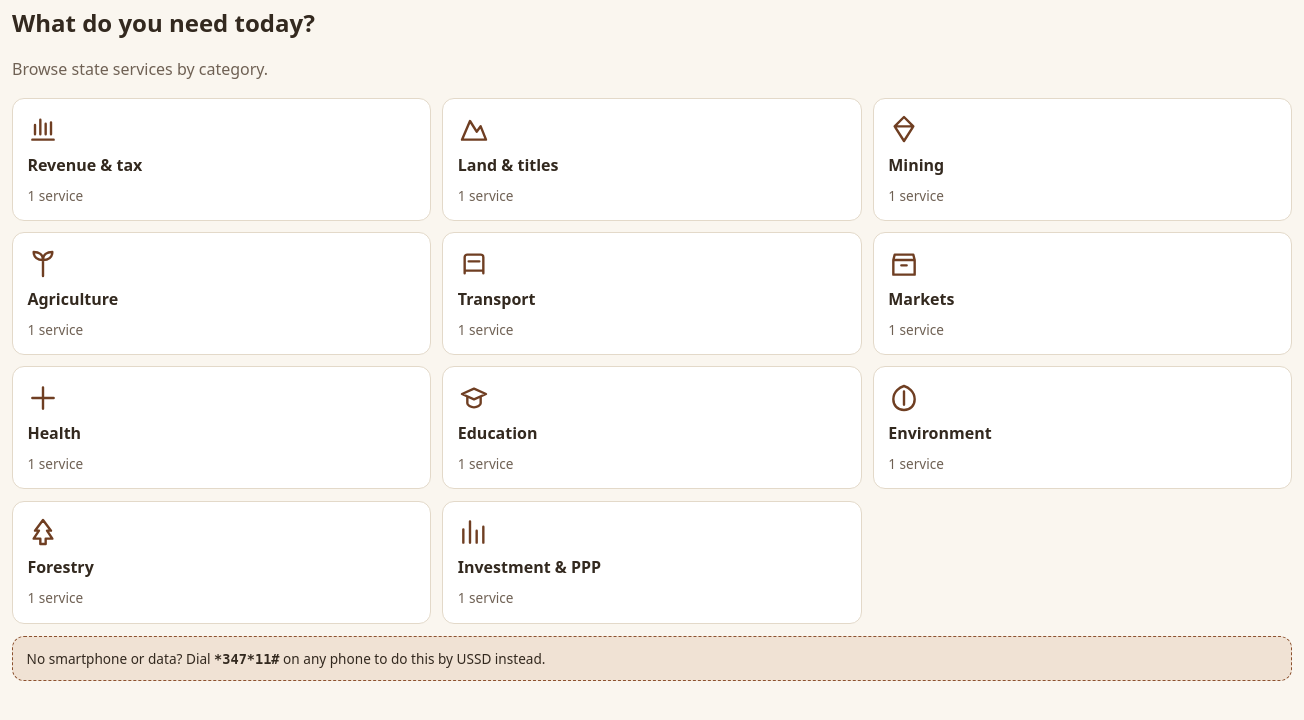
Test: service catalog › drills into a category and lists seeded services with naira fees
The image size is (1304, 720).
Click the button "Land & titles 1 service": (474,129) [442,98,862,221]
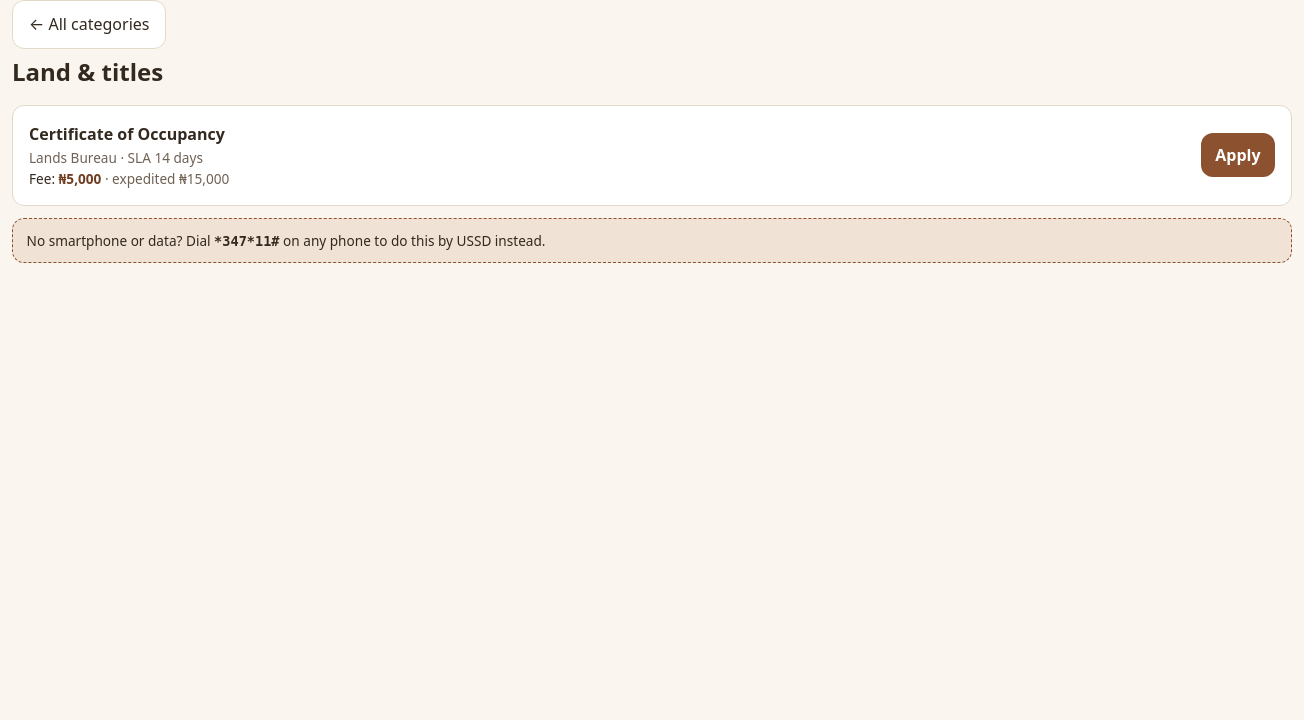
Check: the heading "Land & titles" is shown, box [12,55,163,88]
Check: the text "Certificate of Occupancy" is shown, box [29,123,225,145]
Check: the text "₦5,000" is shown, box [59,169,101,188]
